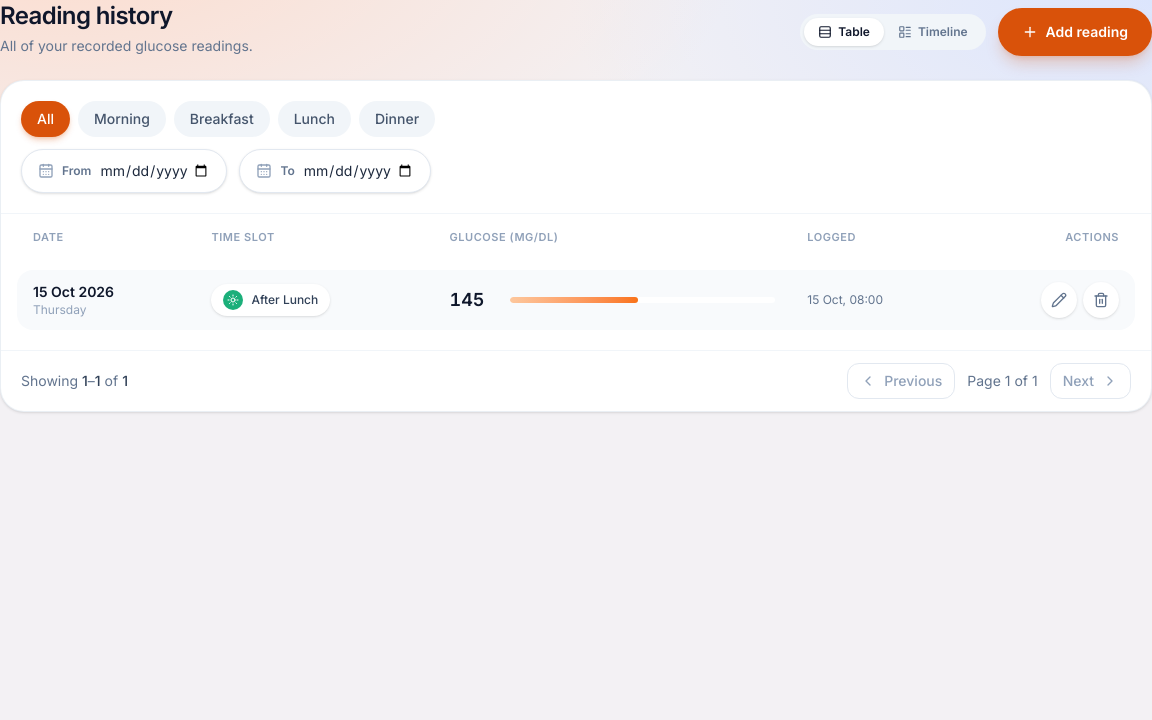
Readings page › asks for confirmation before deleting a reading
Click the button named "delete after lunch reading": (1101, 300) [1083,282,1119,318]
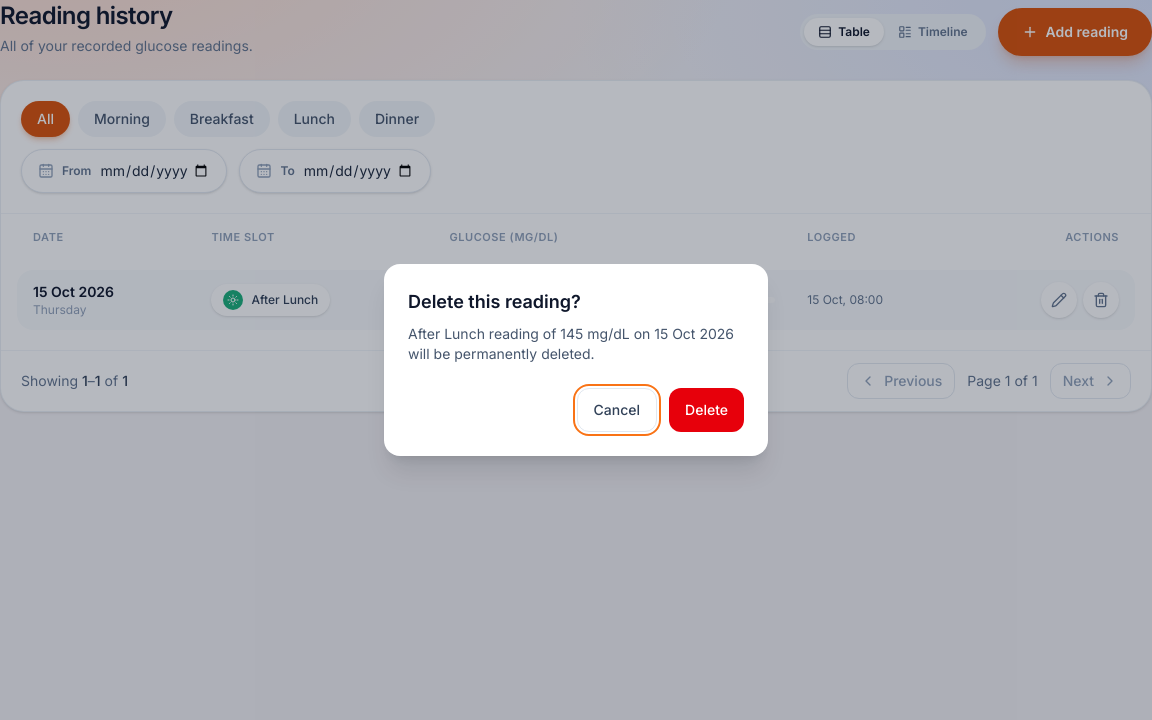
expect the dialog shows "Delete this reading?": met, box [408,291,581,312]
Click the button "Delete": (707, 410) [669,388,744,432]
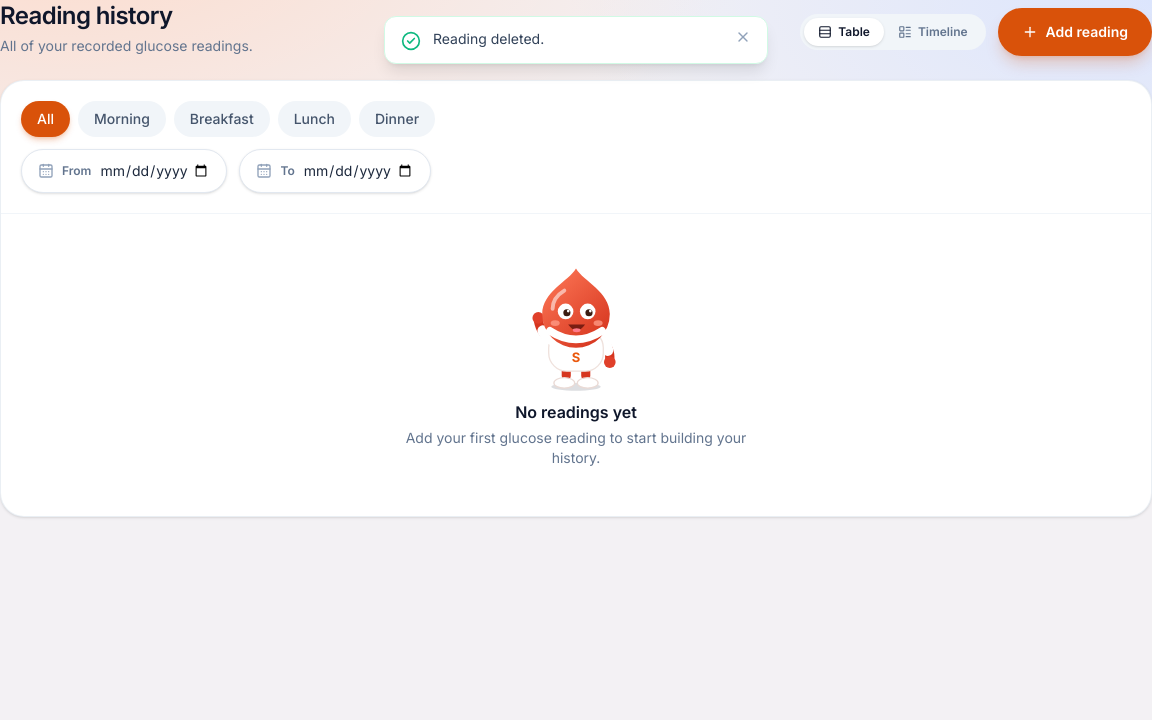
expect the heading "No readings yet" is shown: met, box [515,400,637,424]
expect the text "Reading deleted." is shown: met, box [433,30,544,47]
